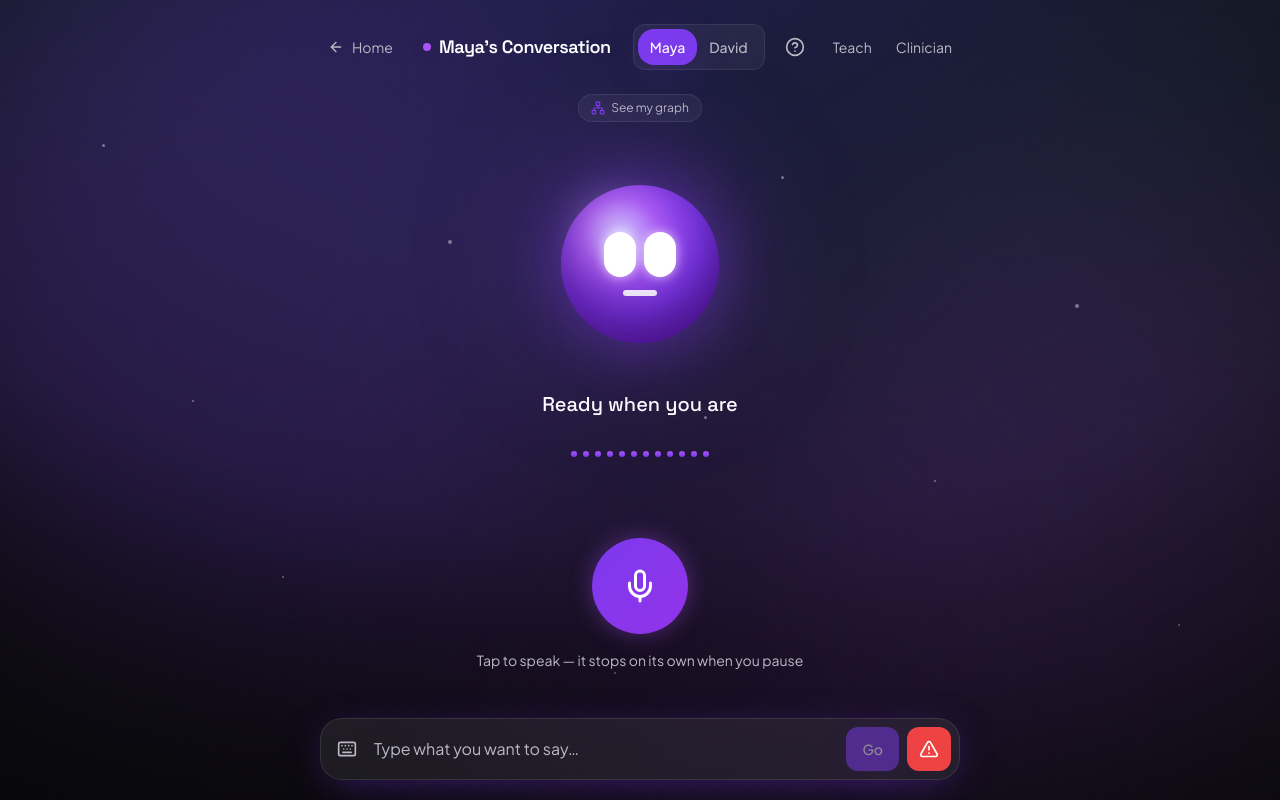
ConversationCanvas › undo inside the window stops persistence entirely (Dignity First)
The image size is (1280, 800).
Type "I want to" into the field labelled "Type what you want to say…" at coordinates (602, 749), box [365,727,838,771]
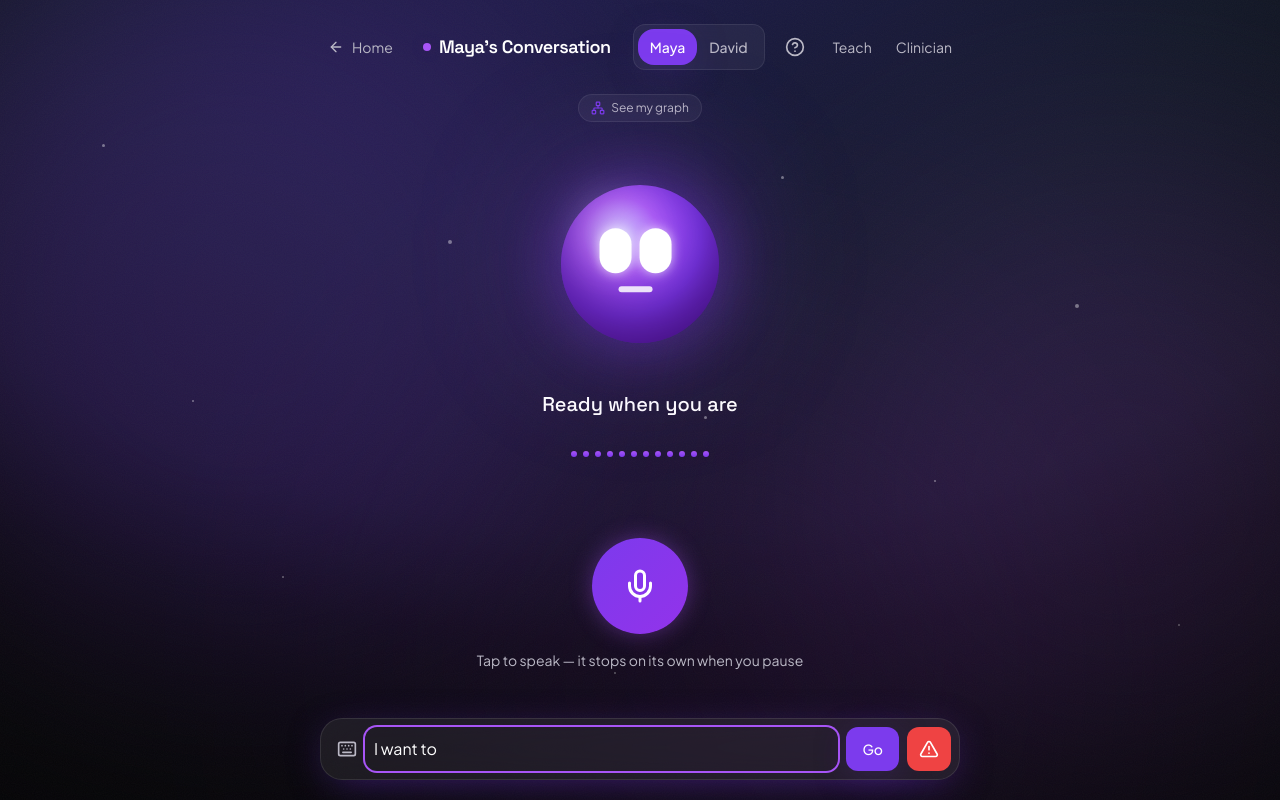
Click the button with aria-label "get suggestions" at coordinates (873, 749), box [846,727,899,771]
(page scrolled)
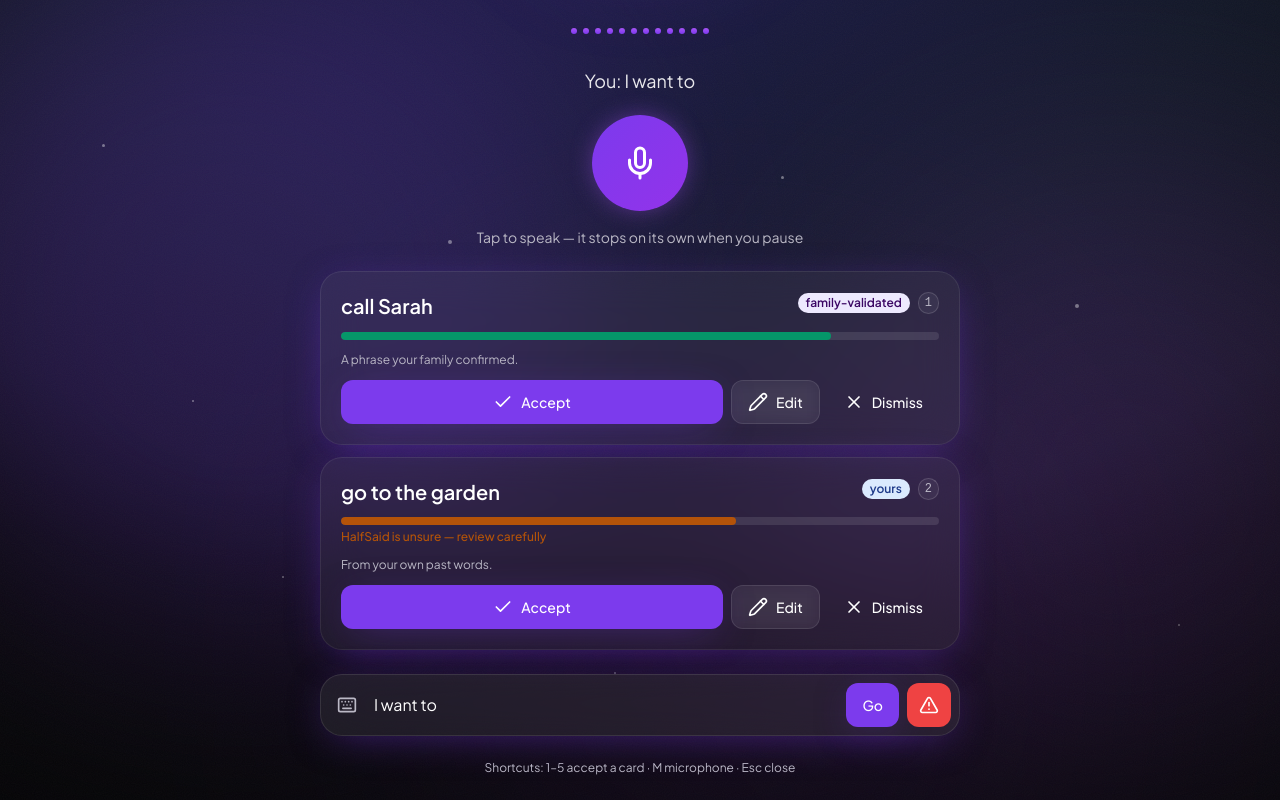
Click the button with aria-label "accept and speak" at coordinates (532, 402), box [341,380,723,424]
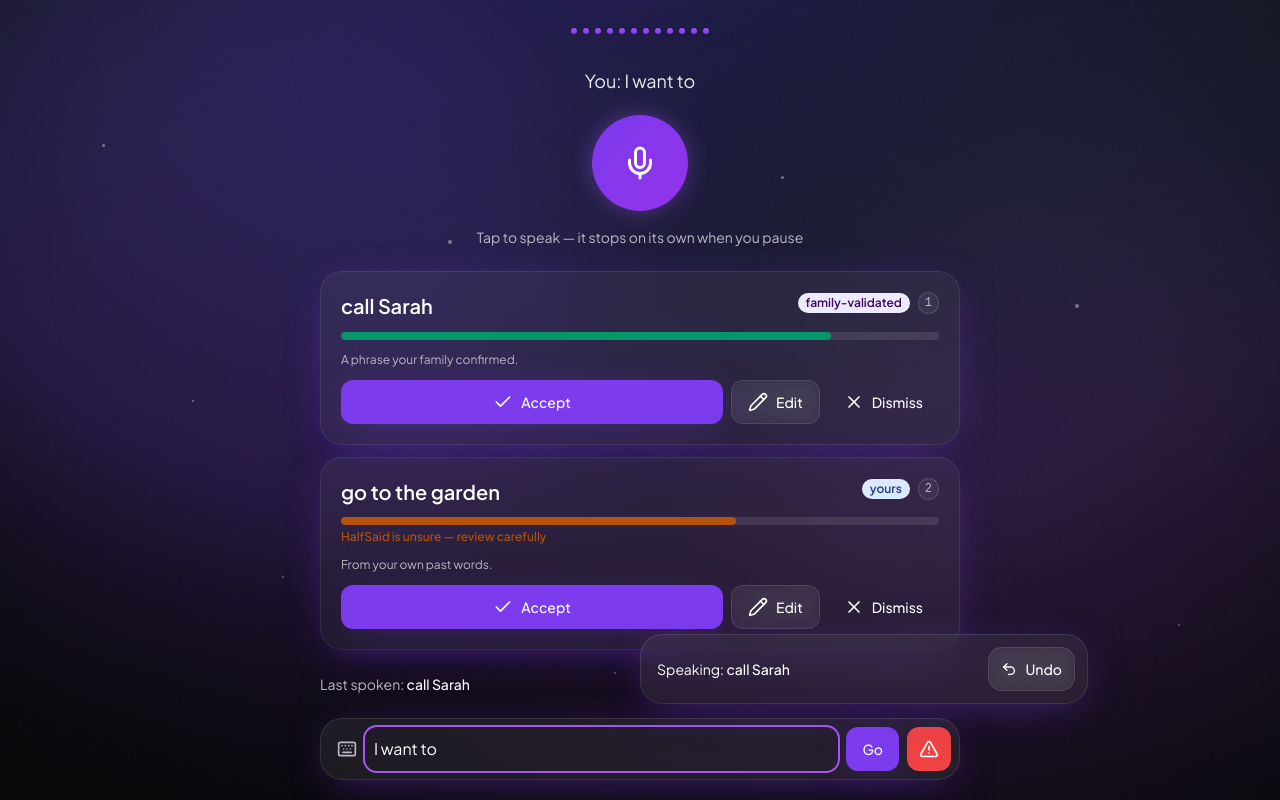
Click the button with aria-label "undo speaking" at coordinates (1032, 669), box [988,647,1075,691]
Wait 6000 ms
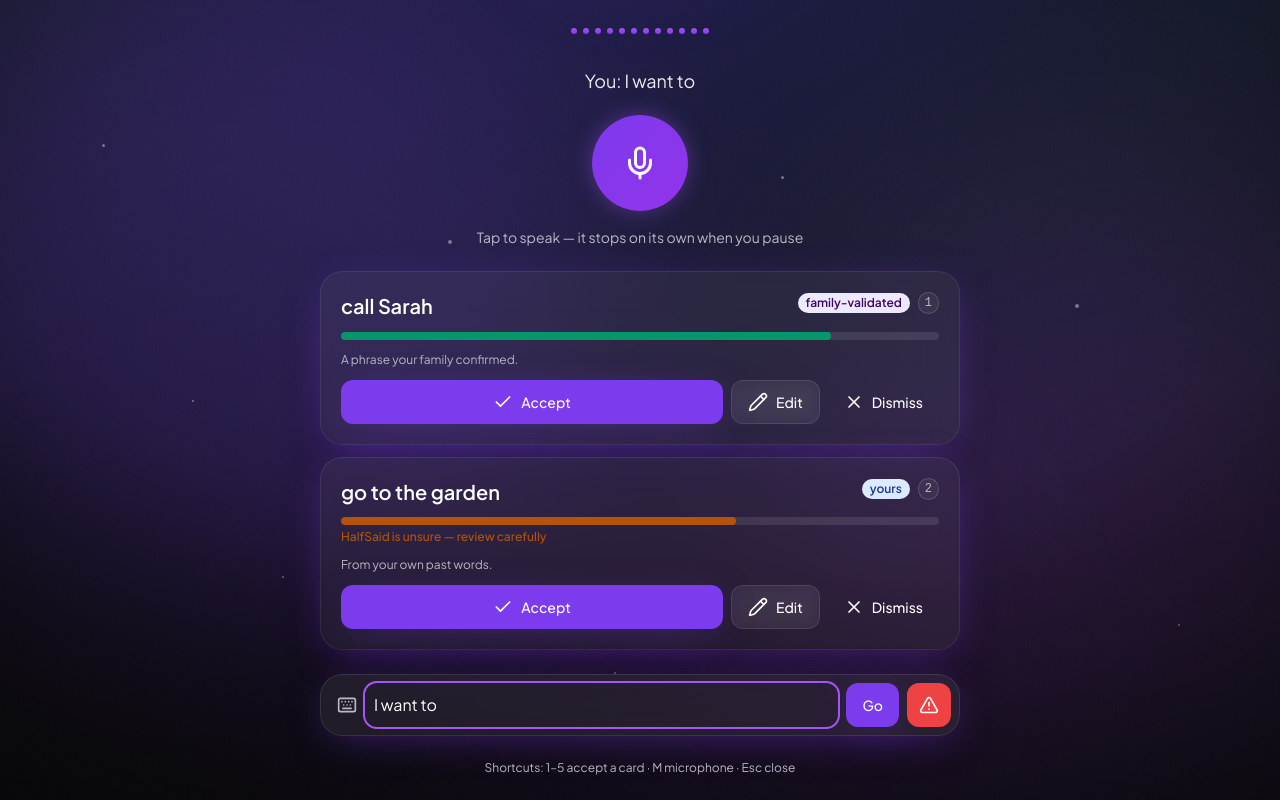
Check: the field labelled "spoken" is gone
